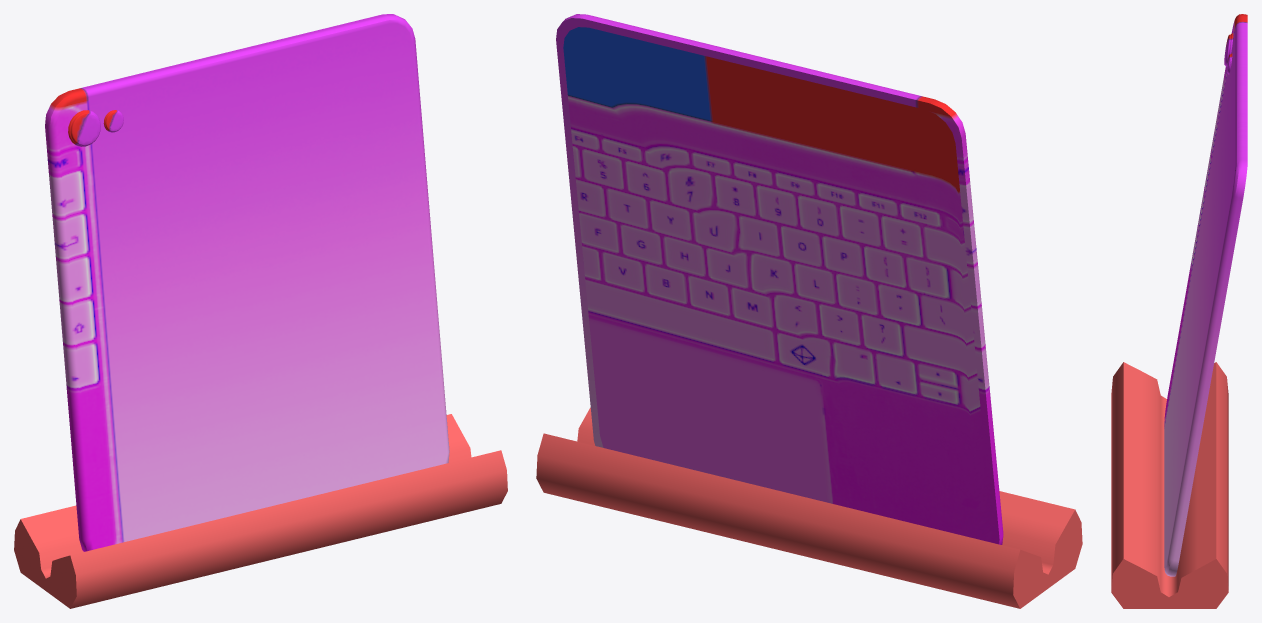
Rendered from Ipad.fbx.
3 views of the same model, side by side, from view 1: azimuth 30°, elevation 25°; view 2: azimuth 150°, elevation 25°; view 3: azimuth 270°, elevation 25° (orthographic). The views are drawn at different scales.
Visible parts, largest first — view 1: IPad, Stand; view 2: IPad, Stand; view 3: Stand, IPad.
Part boxes in pixels (left/top/right/bottom): IPad: left=45, top=14, right=449, bottom=551; Stand: left=14, top=414, right=507, bottom=608; IPad: left=556, top=14, right=1003, bottom=544; Stand: left=536, top=407, right=1082, bottom=608; Stand: left=1111, top=362, right=1228, bottom=608; IPad: left=1164, top=14, right=1247, bottom=576.
Bounding box in the file's own units: 8.41 × 8.47 × 2.47.
